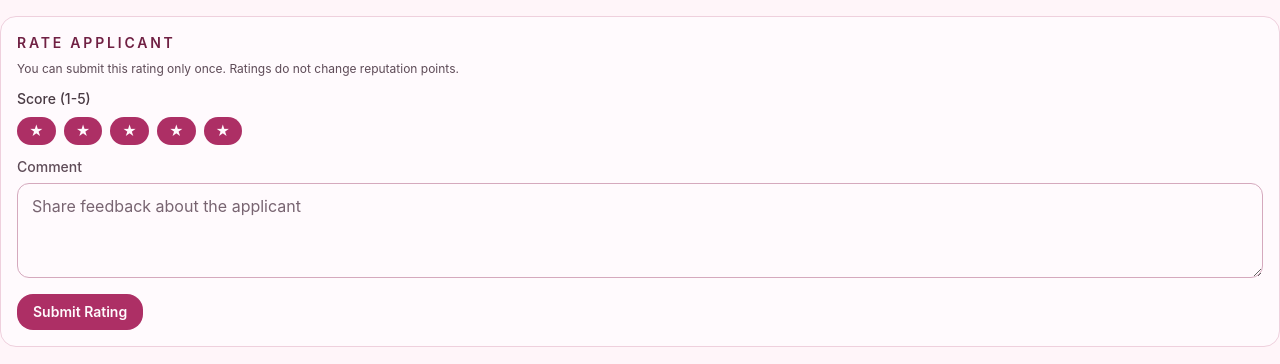
one employer rating per applicant › hides after successful submission and remains hidden after remounting
This screenshot has width=1280, height=364.
Click the button "Submit Rating" at (80, 312), box 17,294 -> 143,330
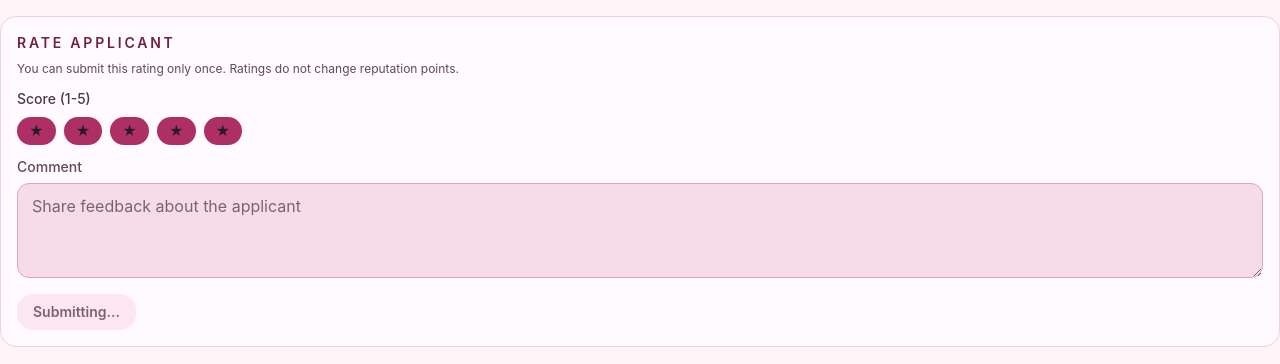
Expected: the button "Submit Rating" is gone
